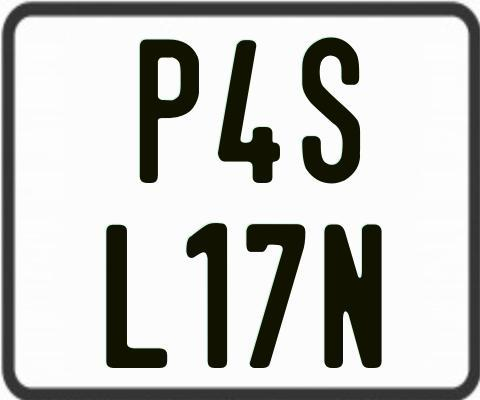1: (183, 220, 227, 365)
4: (216, 39, 279, 186)
7: (244, 224, 309, 369)
L: (103, 222, 165, 371)
N: (322, 221, 386, 371)
P: (140, 36, 200, 185)
S: (300, 36, 361, 182)
